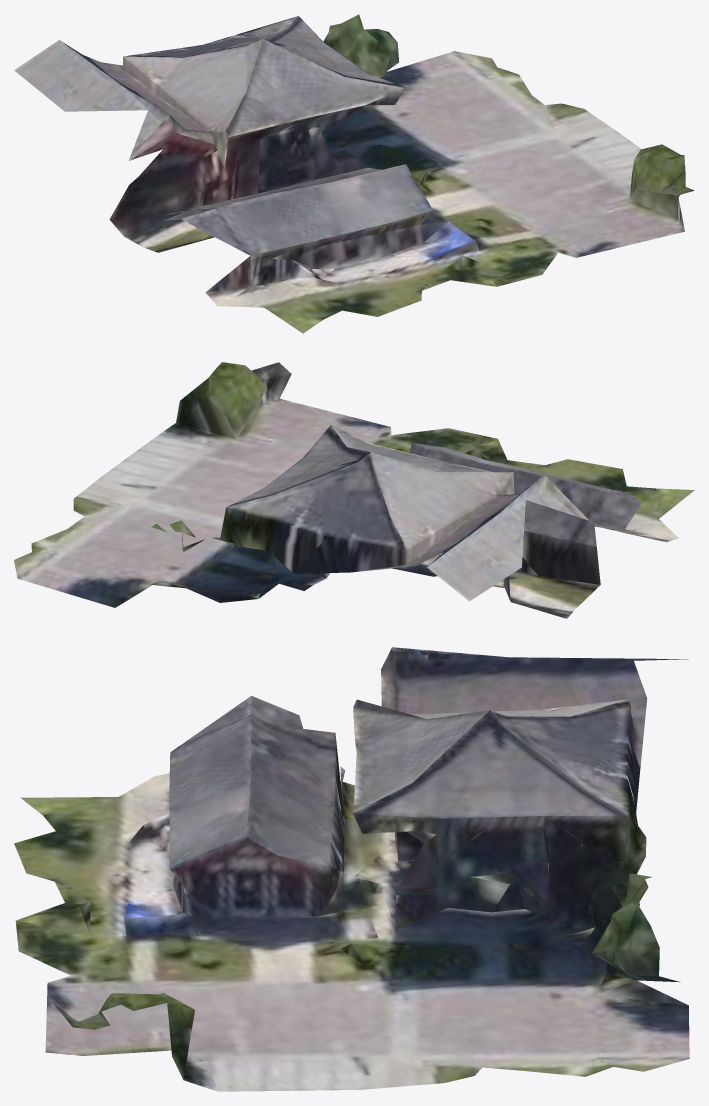
File: Tile_+001_+008_L16_0.glb
3 views of the same model, one above another, from view 1: azimuth 30°, elevation 25°; view 2: azimuth 150°, elevation 25°; view 3: azimuth 270°, elevation 25° (orthographic). The views are drawn at different scales.
Visible parts, largest first — view 1: rtc; view 2: rtc; view 3: rtc.
Part boxes in pixels (bbox=[...]): rtc: bbox=[14, 14, 694, 333]; rtc: bbox=[14, 362, 694, 618]; rtc: bbox=[14, 647, 689, 1091].
Size of the model in its own units: 60.17 by 16.88 by 55.25.
Materials: 1 (1 with a texture image).
